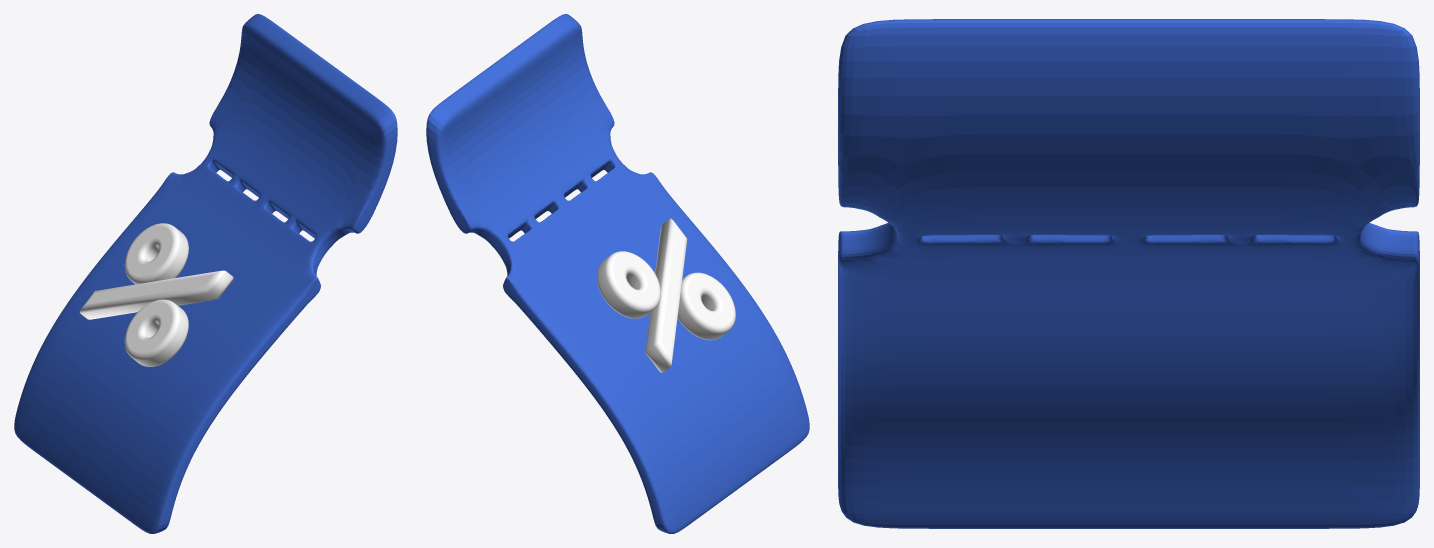
Rendered from receipt.glb.
3 views of the same model, side by side, from view 1: azimuth 30°, elevation 25°; view 2: azimuth 150°, elevation 25°; view 3: azimuth 270°, elevation 25° (orthographic). The views are drawn at different scales.
Visible parts, largest first — view 1: receipt, Text; view 2: receipt, Text; view 3: receipt.
Boxes of the visible parts, x1,y1,x2,y2 form: receipt: (14, 14, 397, 533); Text: (79, 223, 233, 366); receipt: (426, 14, 809, 533); Text: (597, 218, 735, 372); receipt: (838, 19, 1419, 528).
Bounding box in the file's own units: 4.61 × 6.59 × 4.72.
